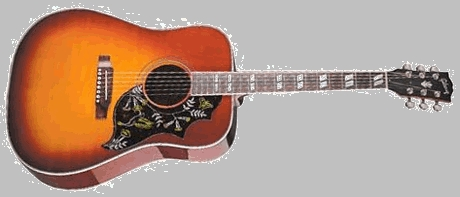guitar: (6, 10, 454, 191)
